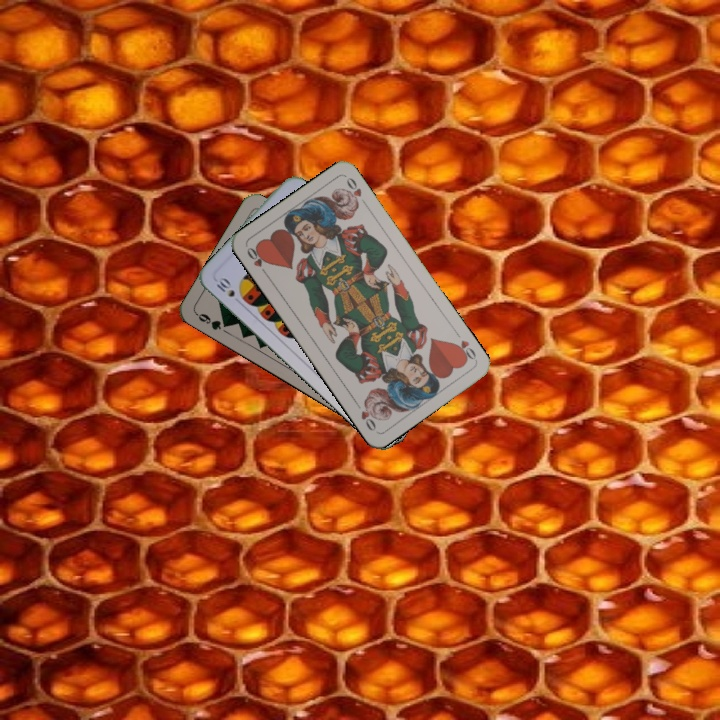G9: (192, 309, 232, 333)
HO: (243, 243, 270, 279), (450, 336, 479, 364)
S10: (210, 273, 244, 307)
